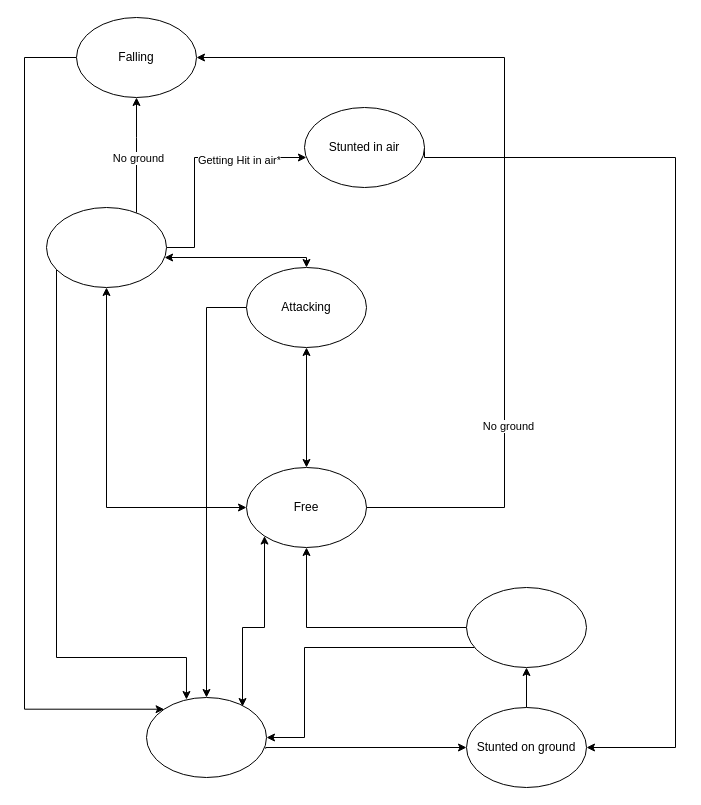
The diagram is 701 pixels wide and 805 high, and some of its shapes have lost their labels. Each missing label, with the centre of its shape:
"Getting Hit" belongs at point 206,737.
"Getting Up" belongs at point 526,627.
"Jumping" belongs at point 106,247.
